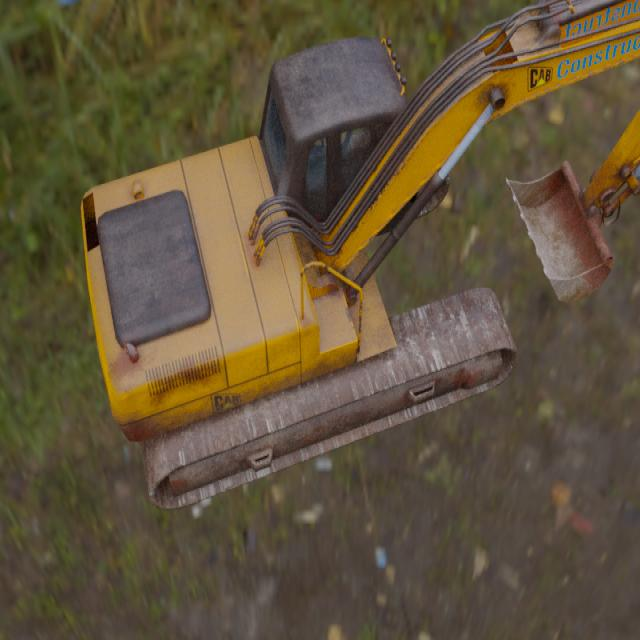excavator: (80, 0, 640, 512)
